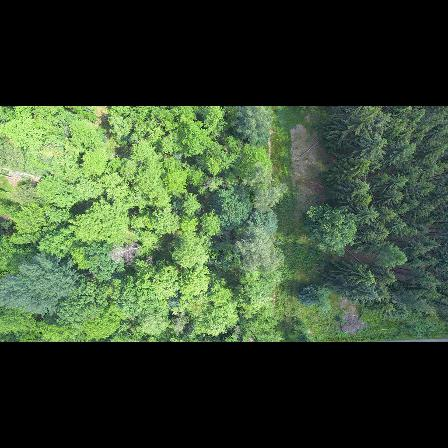Dead: (105, 242, 142, 266)
